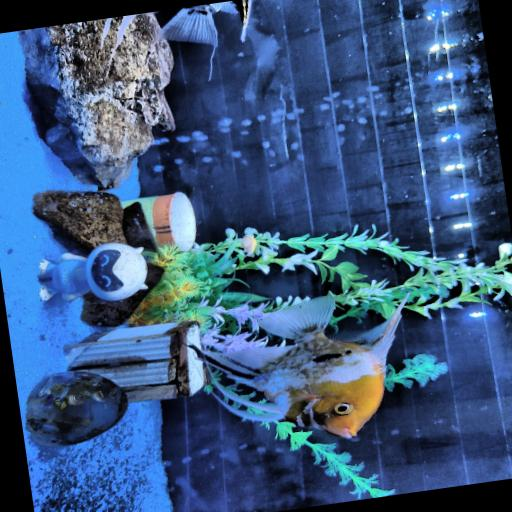Fish: (203, 295, 406, 437), (157, 0, 250, 46), (241, 234, 256, 256)
